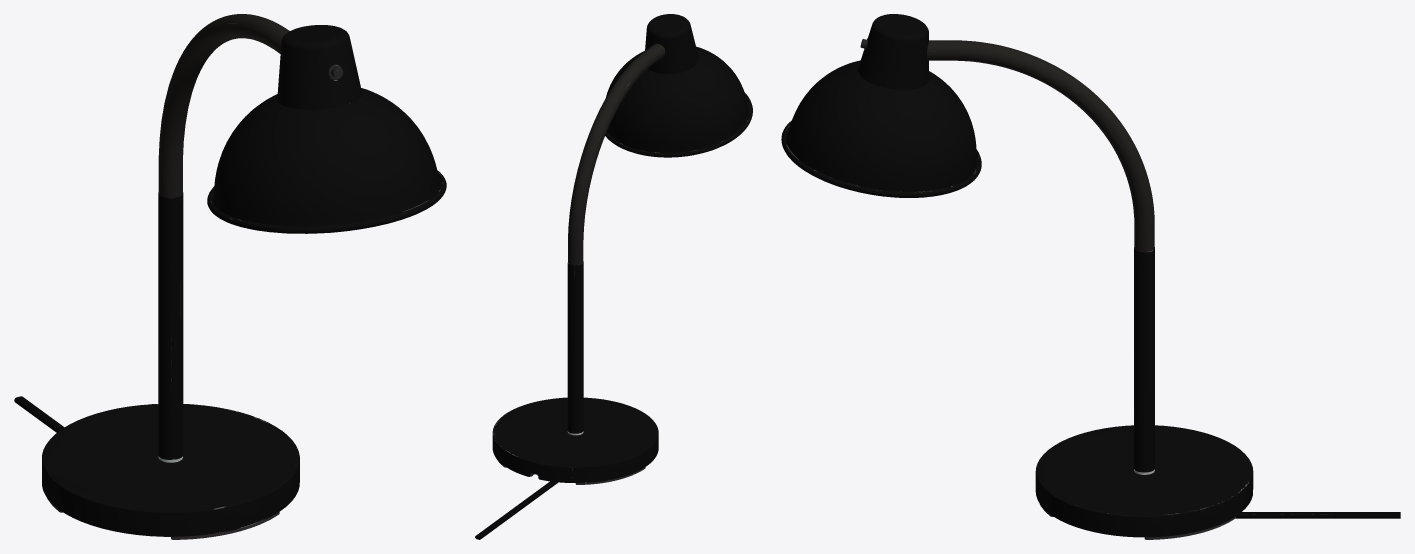
Rendered from 12 - SKURUP Work lamp - black.glb.
The picture shows the model from 3 angles, left to right: view 1: azimuth 30°, elevation 25°; view 2: azimuth 150°, elevation 25°; view 3: azimuth 270°, elevation 25°; orthographic projection. The views are drawn at different scales.
Parts seen in each view (by area): view 1: model; view 2: model; view 3: model.
Boxes of the visible parts, box(x1,y1,x2,y2) form: model: box(14, 14, 446, 539); model: box(475, 14, 752, 539); model: box(781, 14, 1400, 539).
Bounding box in the file's own units: 0.17 × 0.4276 × 0.4836.
1 material, 1 textured.
